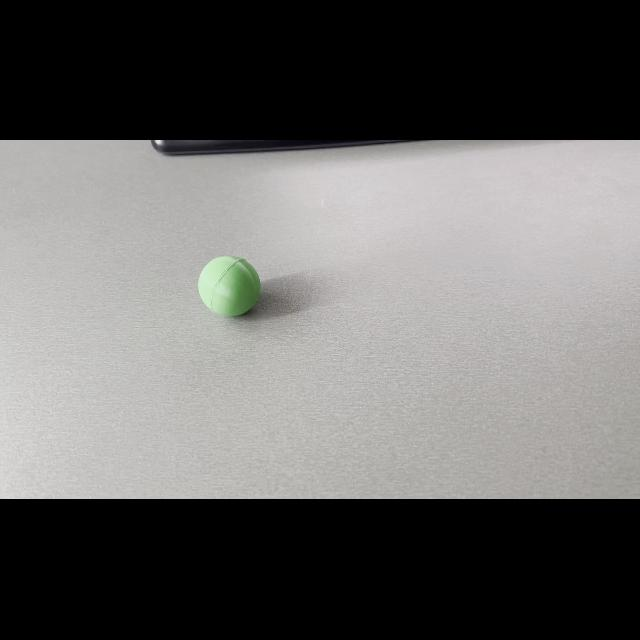objects: (194, 249, 266, 321)
